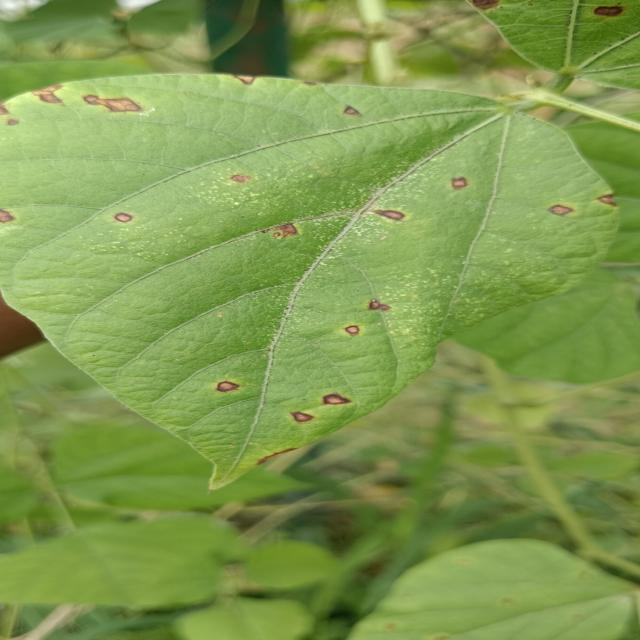Dolicos bean_cercospora leaf spot: (0, 61, 640, 489)
